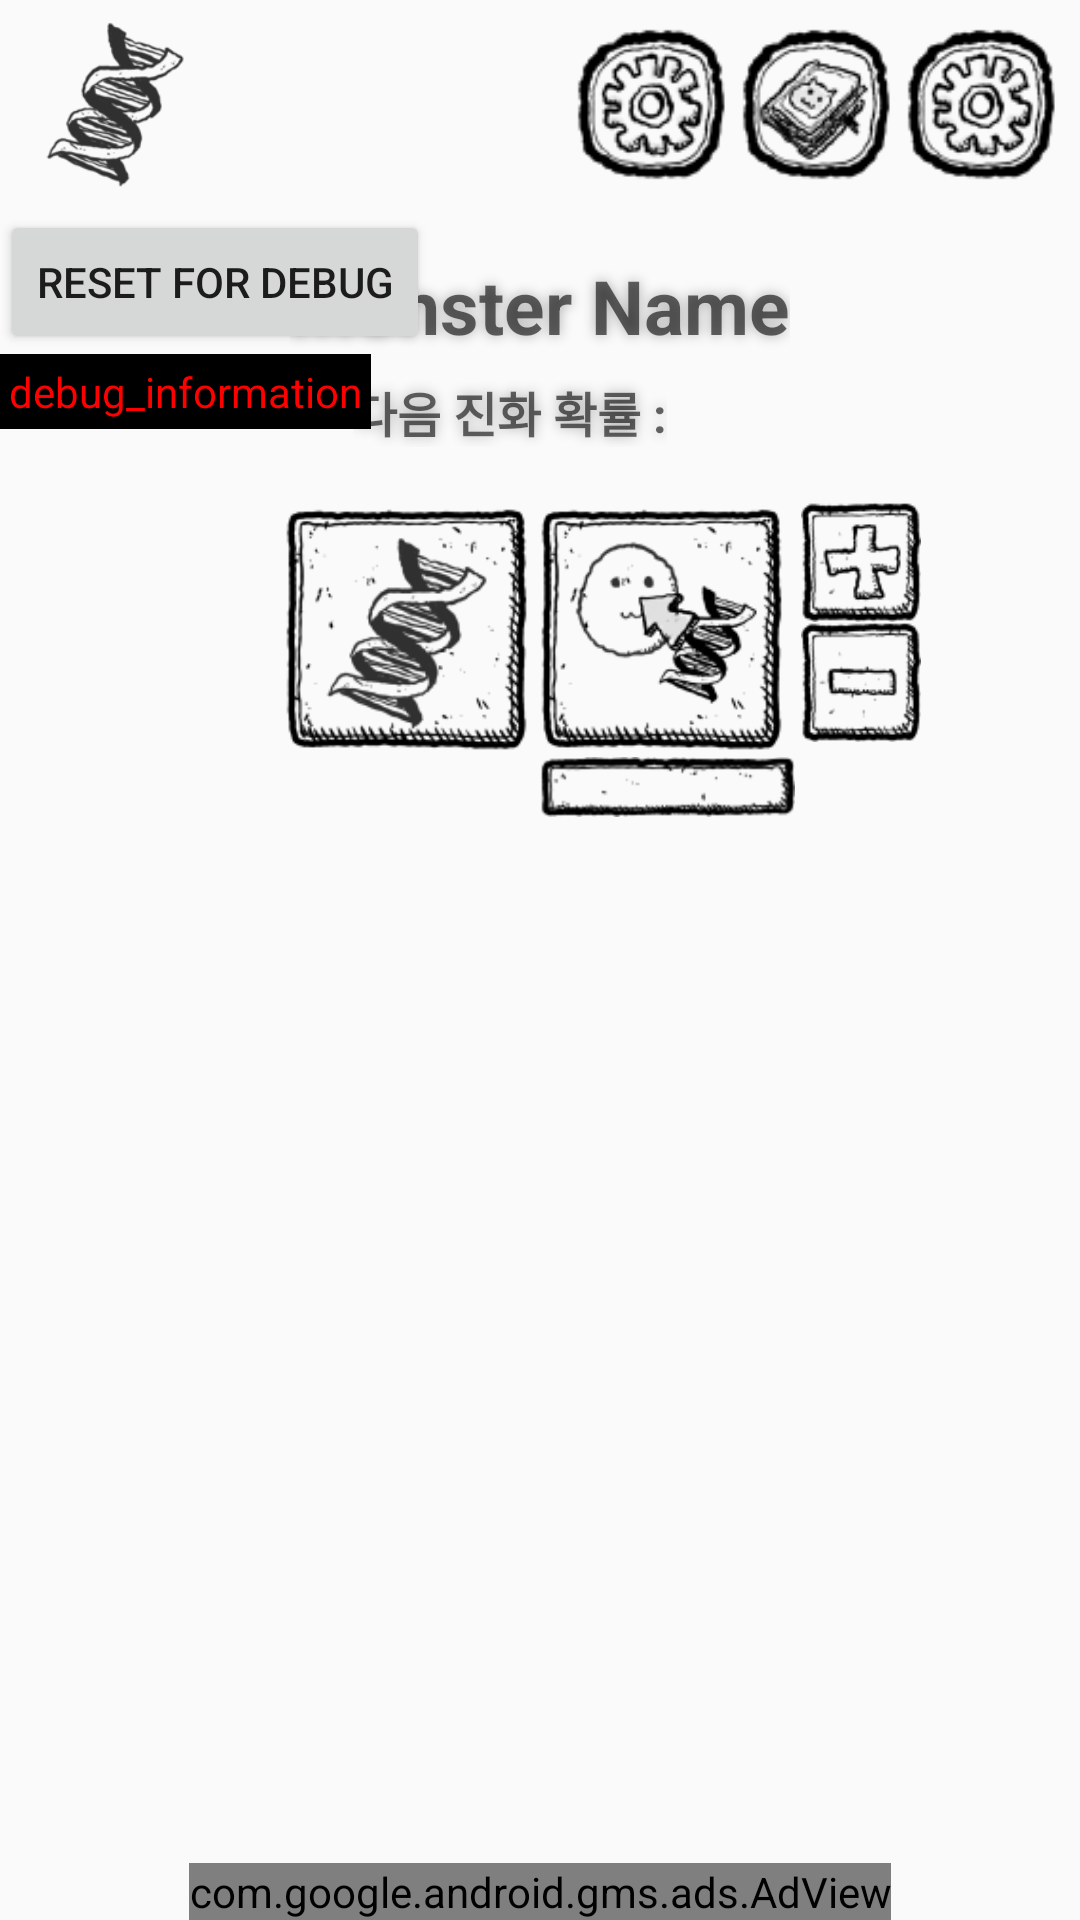

Where icons sit on this 1080px x 1920px app screen, as (left=x1, top=y1, right=x2, bottom=y2):
dna: (left=47, top=23, right=184, bottom=187)
dna down: (left=801, top=623, right=921, bottom=742)
dna up: (left=801, top=503, right=921, bottom=622)
get dna: (left=286, top=509, right=527, bottom=750)
monster book: (left=743, top=29, right=890, bottom=179)
setting: (left=578, top=29, right=725, bottom=179), (left=908, top=29, right=1055, bottom=179)
try evol: (left=541, top=509, right=782, bottom=750)
